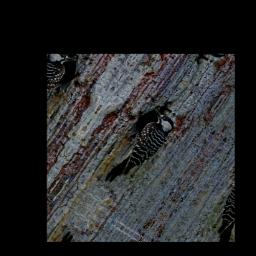Woodpecker: (102, 105, 182, 196)
